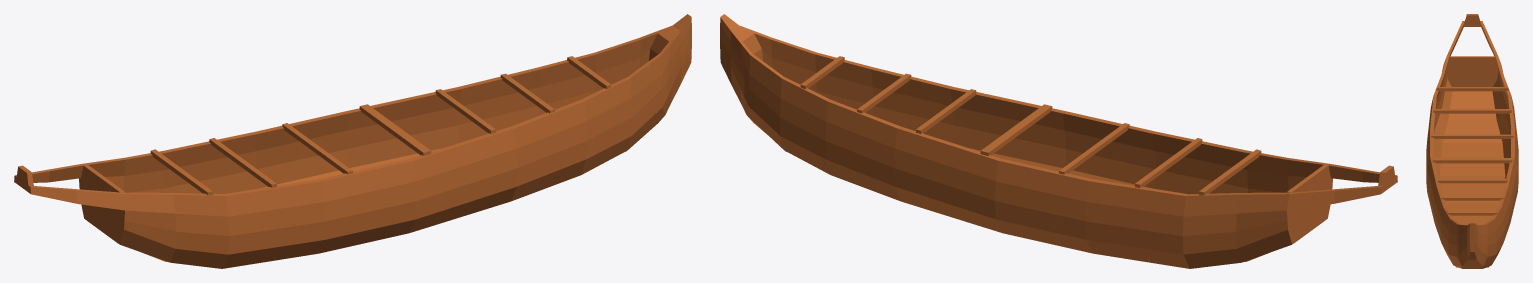
The model's file is Japanese_Boat.fbx.
3 views of the same model, side by side, from view 1: azimuth 30°, elevation 25°; view 2: azimuth 150°, elevation 25°; view 3: azimuth 270°, elevation 25° (orthographic). The views are drawn at different scales.
Parts seen in each view (by area): view 1: Plane.001; view 2: Plane.001; view 3: Plane.001.
Boxes of the visible parts, left/top/right/bottom form: Plane.001: left=14, top=14, right=691, bottom=268; Plane.001: left=720, top=14, right=1397, bottom=268; Plane.001: left=1426, top=14, right=1518, bottom=268.
Size of the model in its own units: 1442 by 268 by 277.
